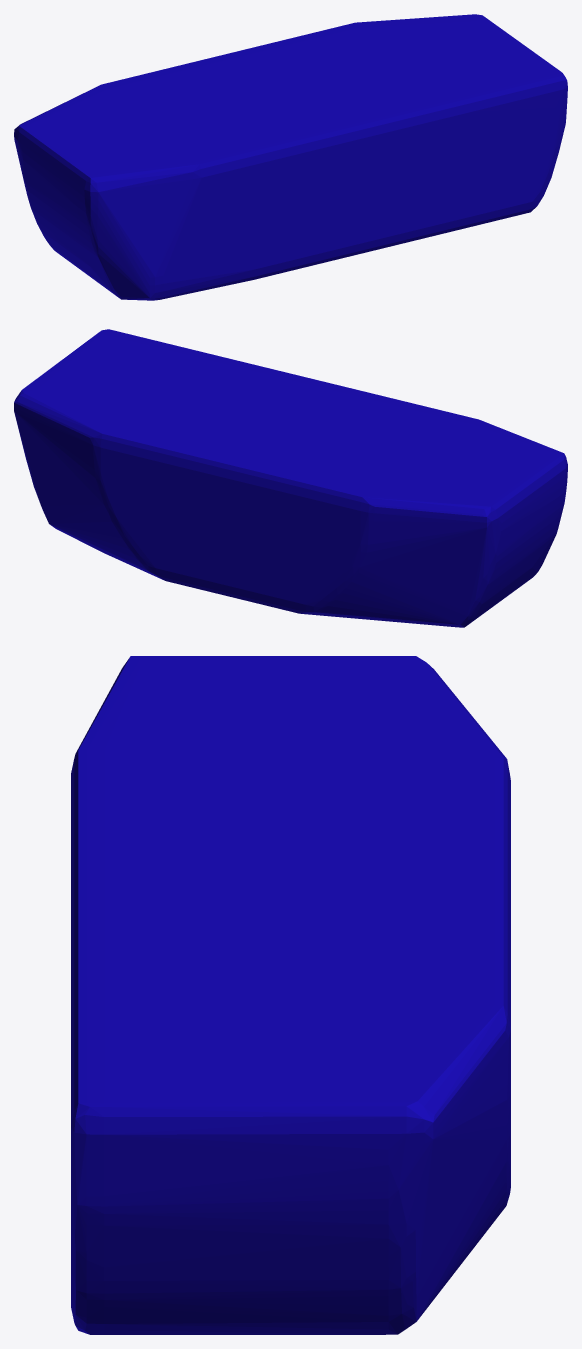
File: left_shoulder_roll_link_part_5.obj
3 views of the same model, one above another, from view 1: azimuth 30°, elevation 25°; view 2: azimuth 150°, elevation 25°; view 3: azimuth 270°, elevation 25° (orthographic). The views are drawn at different scales.
Size of the model in its own units: 0.0984 by 0.0259 by 0.0399.
